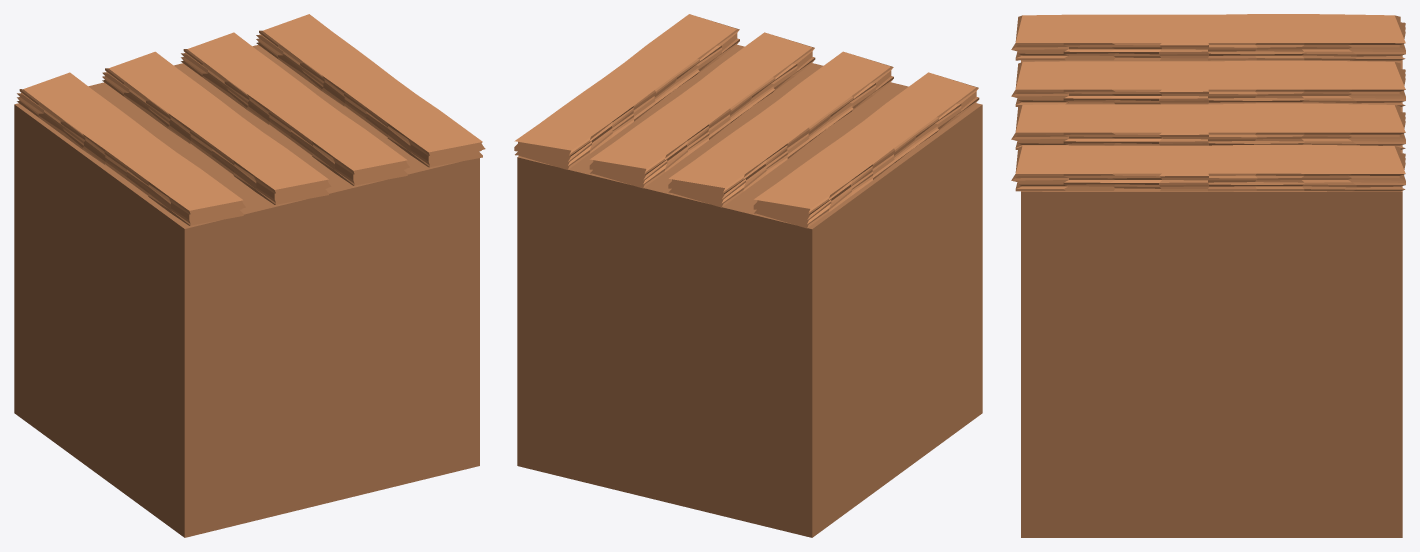
3 views of the same model, side by side, from view 1: azimuth 30°, elevation 25°; view 2: azimuth 150°, elevation 25°; view 3: azimuth 270°, elevation 25° (orthographic). The views are drawn at different scales.
Visible parts, largest first — view 1: 立方体; view 2: 立方体; view 3: 立方体.
Boxes of the visible parts, x1,y1,x2,y2 form: 立方体: (14, 14, 485, 537); 立方体: (514, 14, 982, 537); 立方体: (1011, 14, 1405, 537).
Bounding box in the file's own units: 201 × 211 × 207.
